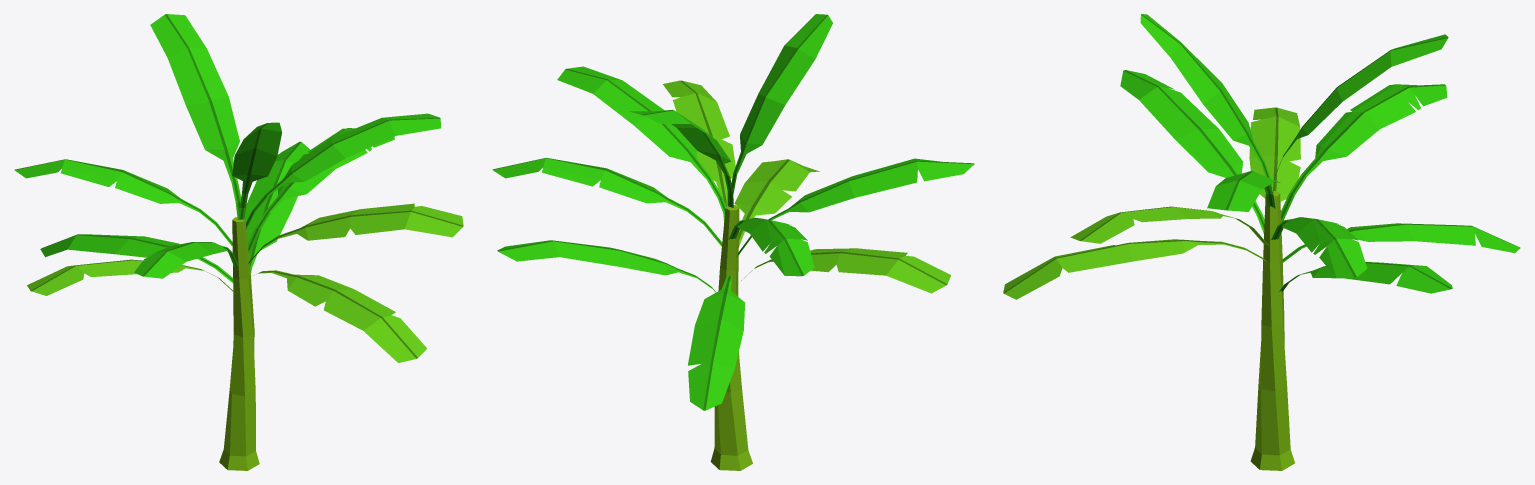
Rendered from bananatree.obj.
3 views of the same model, side by side, from view 1: azimuth 30°, elevation 25°; view 2: azimuth 150°, elevation 25°; view 3: azimuth 270°, elevation 25° (orthographic). The views are drawn at different scales.
Parts seen in each view (by area): view 1: Banana_Trunk; view 2: Banana_Trunk; view 3: Banana_Trunk.
Part boxes in pixels (x1,y1,x2,y2): Banana_Trunk: (14,14,463,470); Banana_Trunk: (492,14,974,470); Banana_Trunk: (1003,14,1520,470).
Size of the model in its own units: 9 by 8.47 by 9.21.
